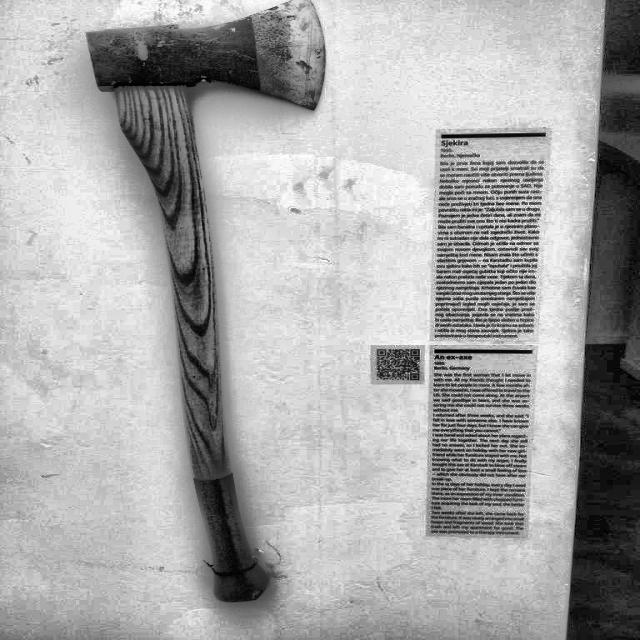kapak: (76, 0, 333, 612)
